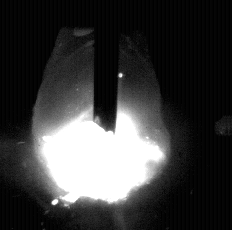arame: (94, 0, 119, 134)
poca: (31, 0, 172, 230)
